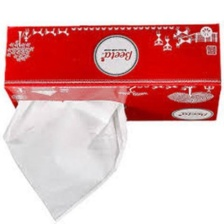book: (0, 18, 224, 127)
tissue: (0, 95, 135, 224)
